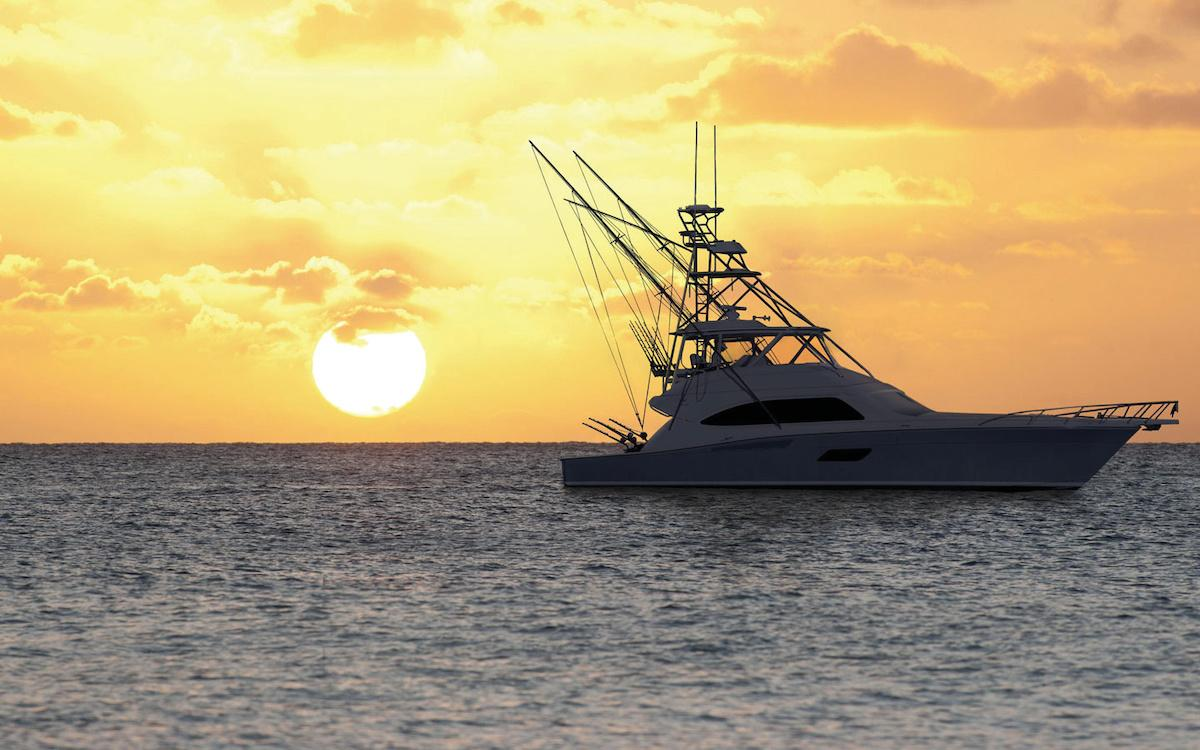fishing boat: (521, 114, 1196, 501)
